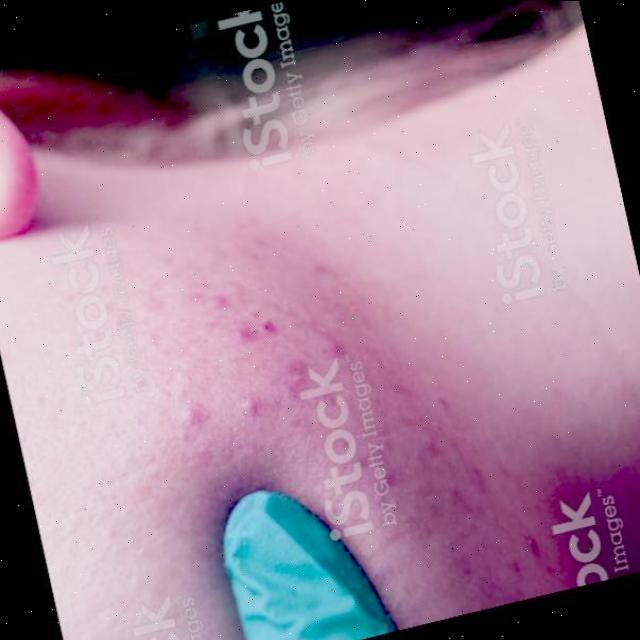Acne: (193, 276, 551, 600)
